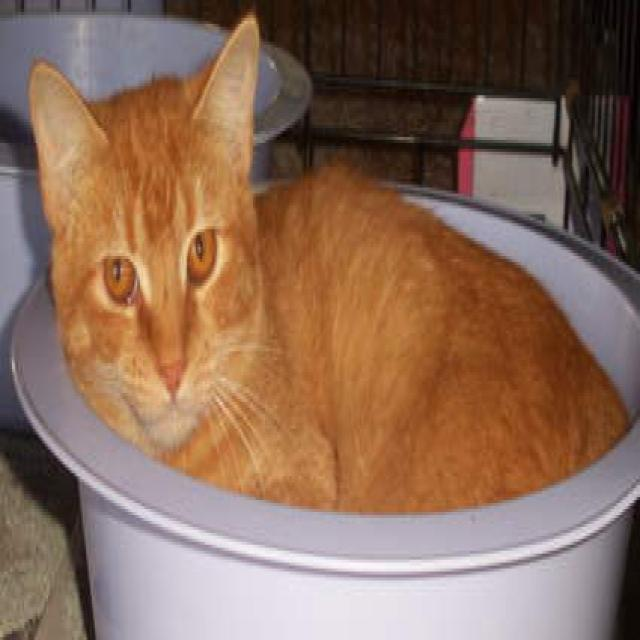Cats: (27, 9, 628, 512)
